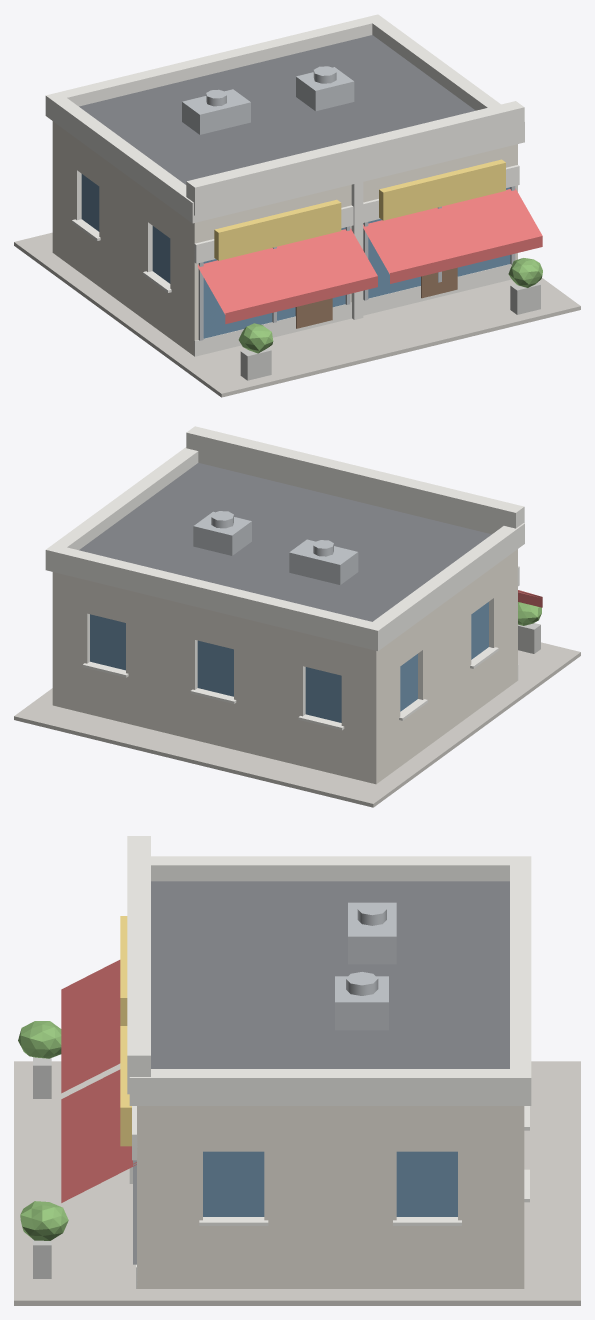
3 renders of one model, top to bottom at view 1: azimuth 30°, elevation 25°; view 2: azimuth 150°, elevation 25°; view 3: azimuth 270°, elevation 25°, orthographic. The views are drawn at different scales.
Visible parts, largest first — view 1: c_1_1_b; view 2: c_1_1_b; view 3: c_1_1_b.
Boxes of the visible parts, x1=… form: c_1_1_b: x1=14, y1=14, x2=580, y2=397; c_1_1_b: x1=14, y1=426, x2=580, y2=807; c_1_1_b: x1=14, y1=836, x2=580, y2=1305.
Bounding box in the file's own units: 12 × 5.64 × 12.
